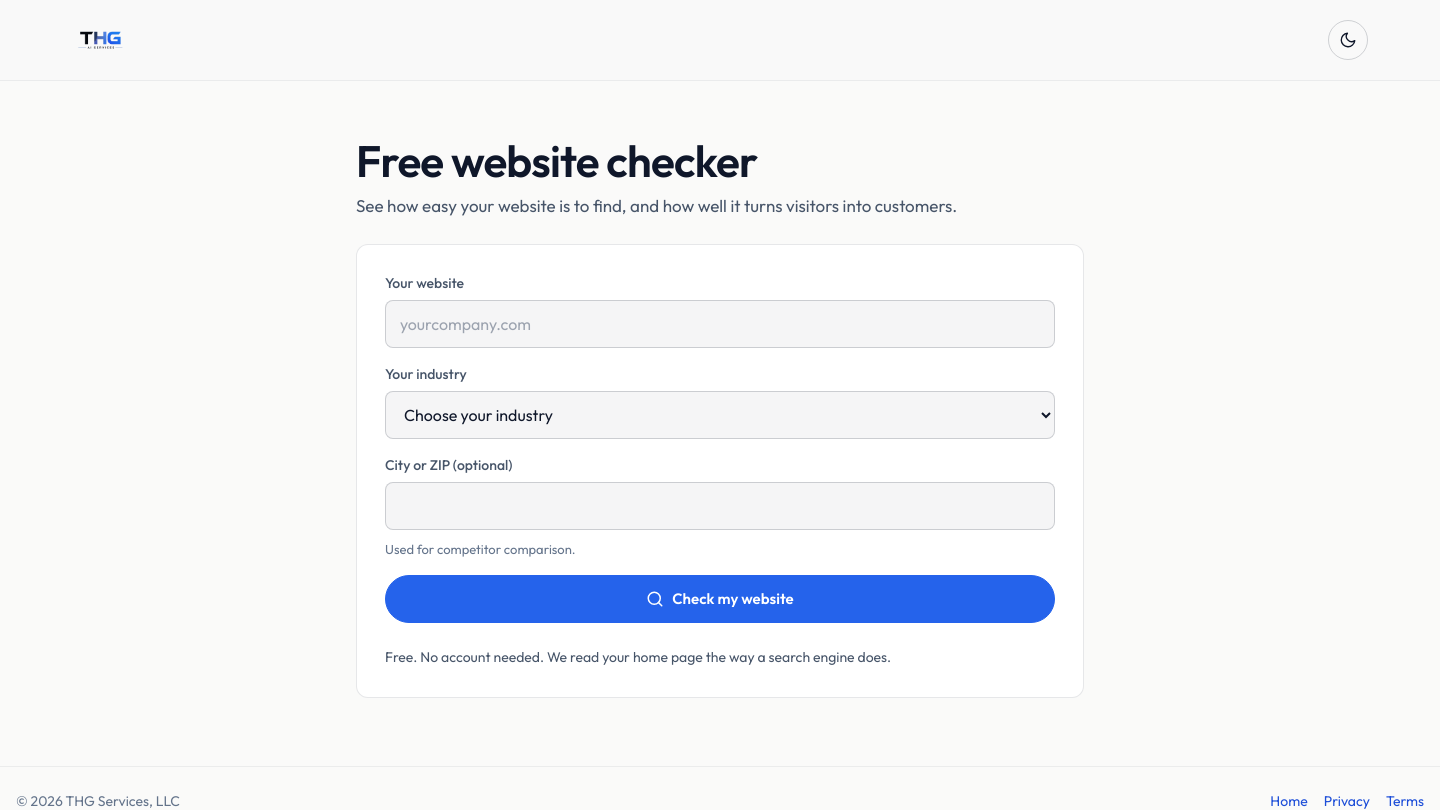
Test: WebsiteChecker page › start and grades › needs an industry and a plausible address before it spends a scan
This screenshot has width=1440, height=810.
Type "example.com" into the field labelled "Your website" at (720, 324), box [385, 300, 1055, 348]
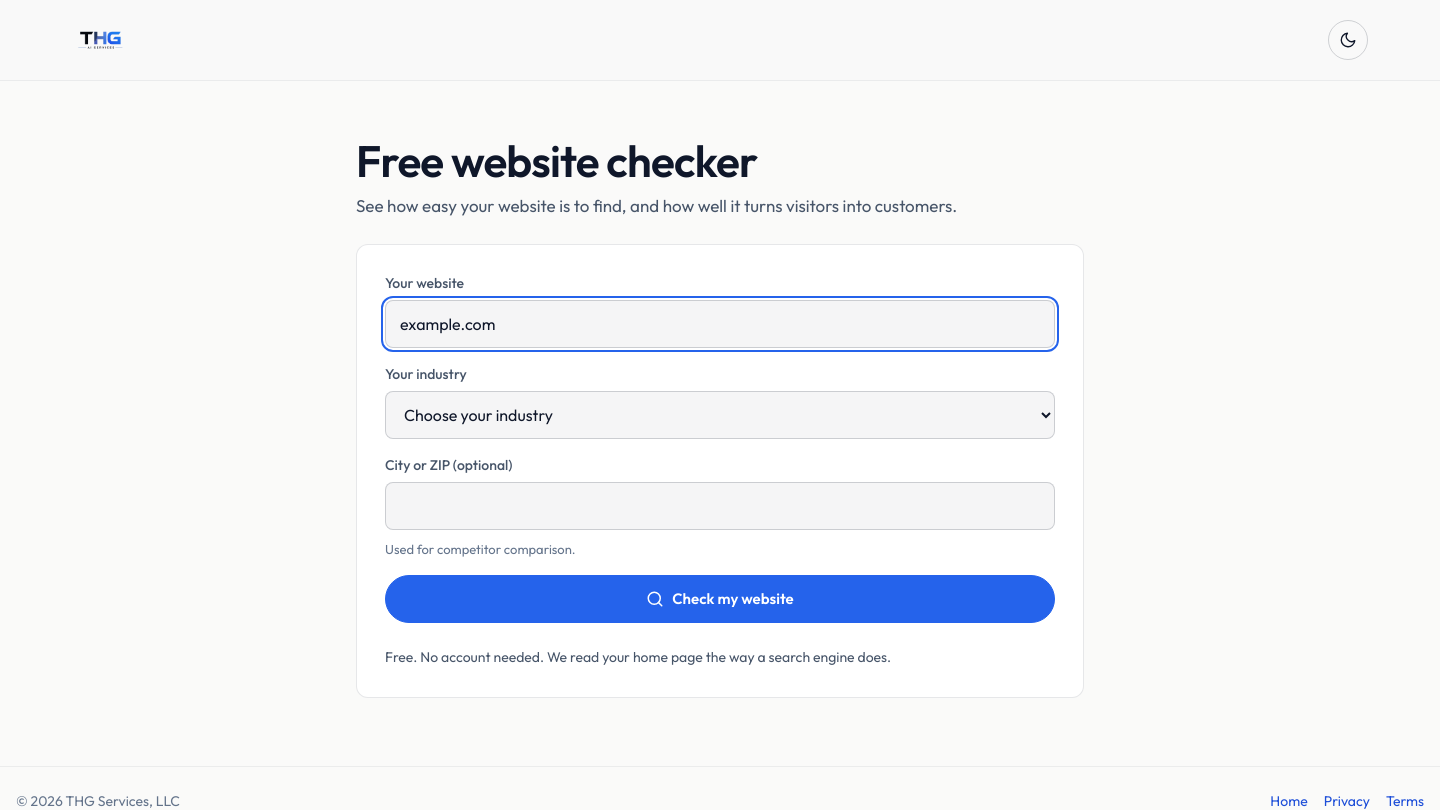
Click the button "Check my website" at (720, 599), box [385, 575, 1055, 623]
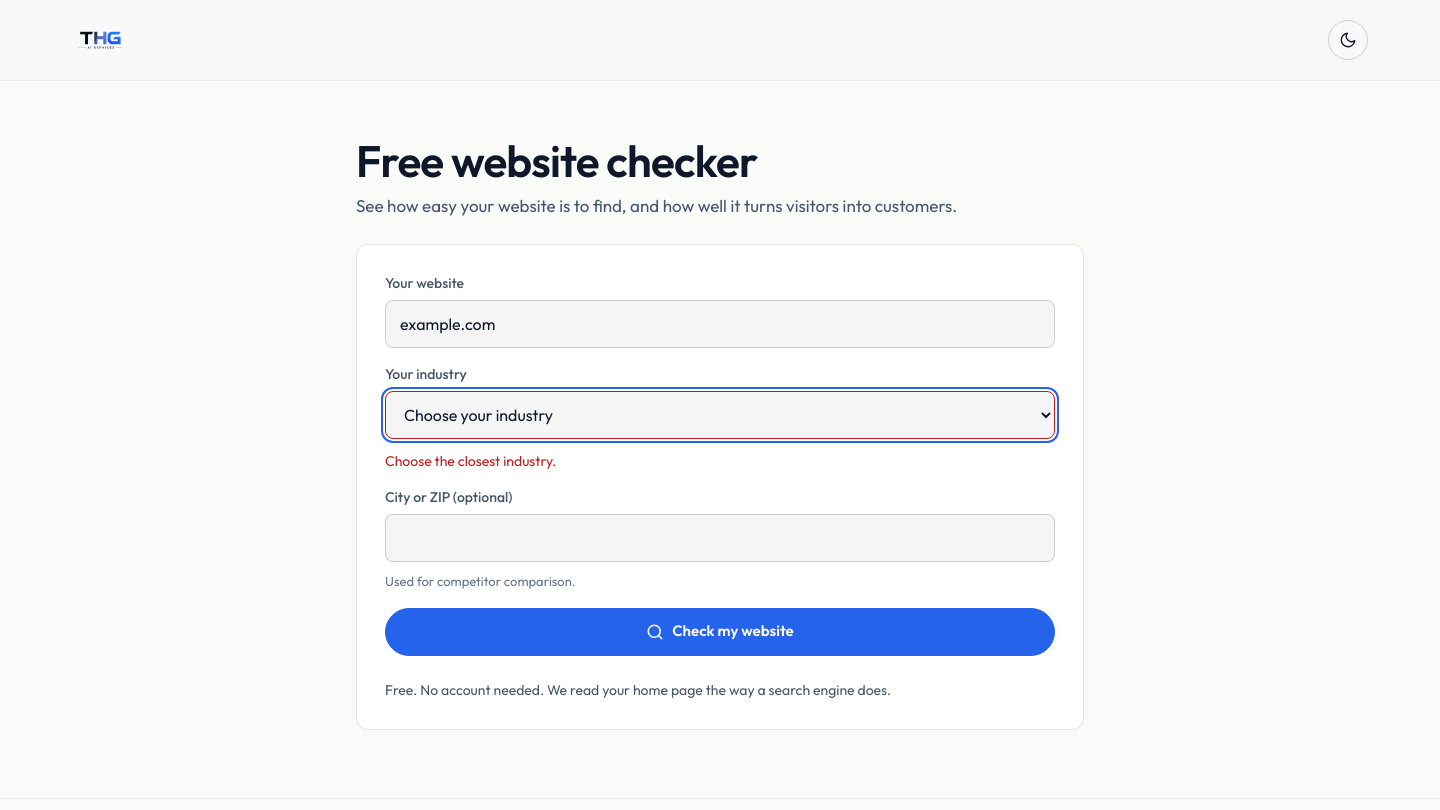
expect the text "Choose the closest industry." is shown: met, box [385, 452, 556, 470]
Replace the text in the field labelled "Your website" with "not a site" at (720, 324), box [385, 300, 1055, 348]
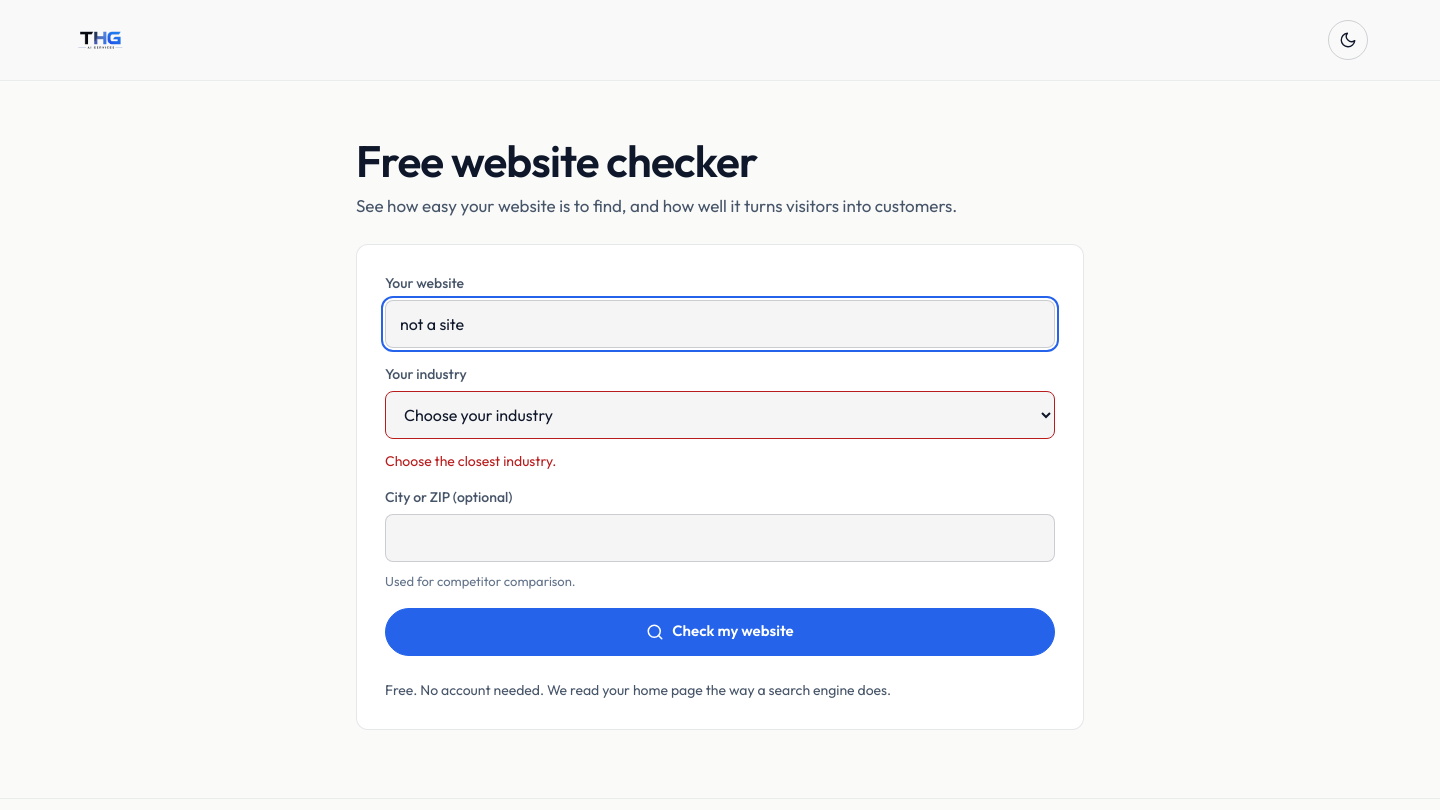
Select "Home services (flooring, plumbing, HVAC, roofing, landscaping, cleaning)" in the dropdown labelled "Your industry" at (720, 415), box [385, 391, 1055, 439]
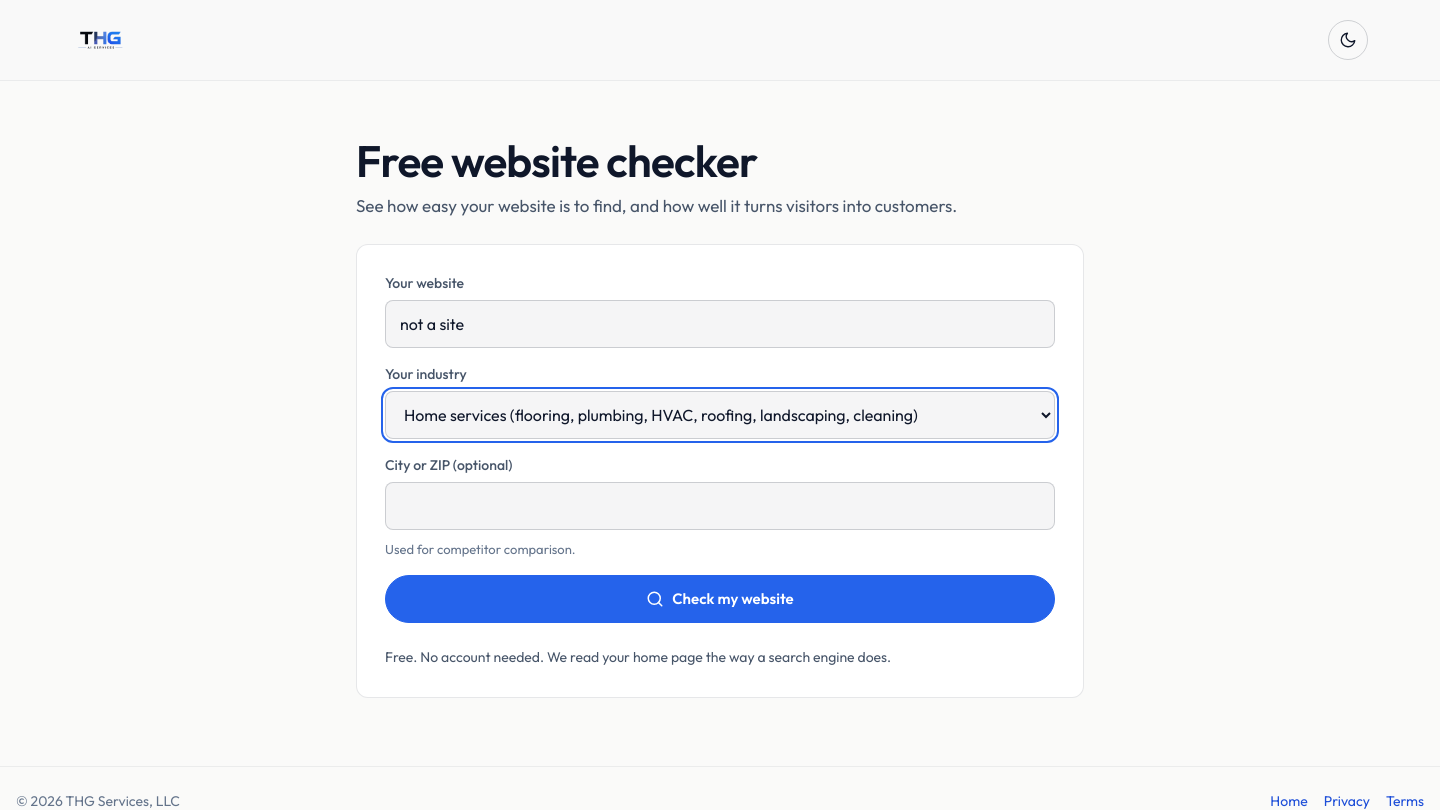
Click the button "Check my website" at (720, 599), box [385, 575, 1055, 623]
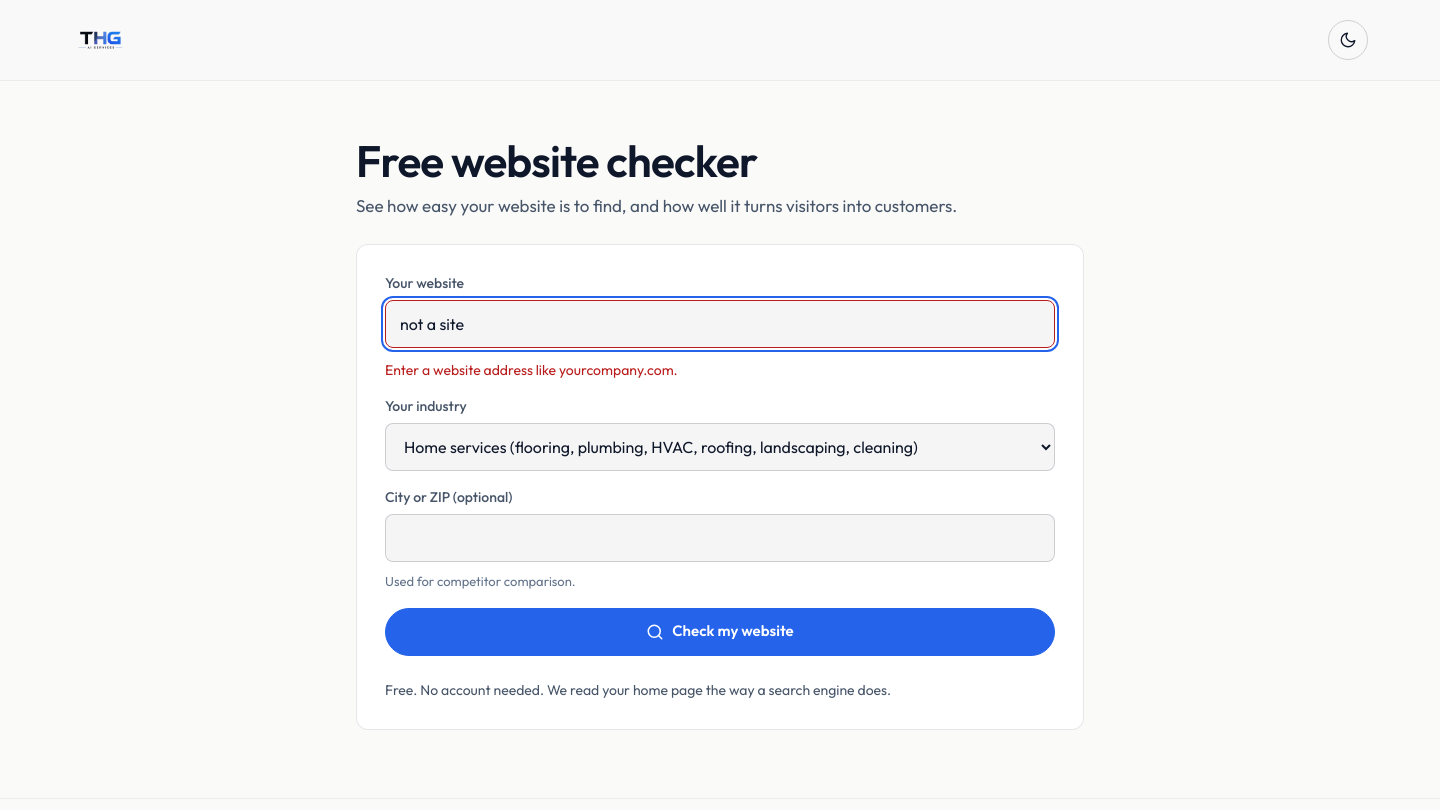
expect the text "Enter a website address like yourcompany.com." is shown: met, box [385, 361, 678, 379]
